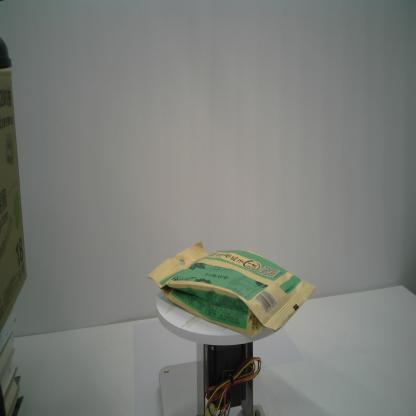Dried Food: (145, 240, 316, 340)
